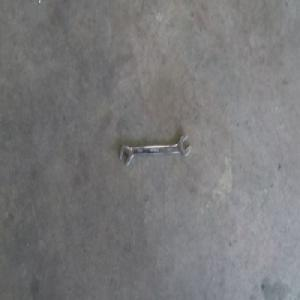Wrench: (119, 136, 190, 167)
